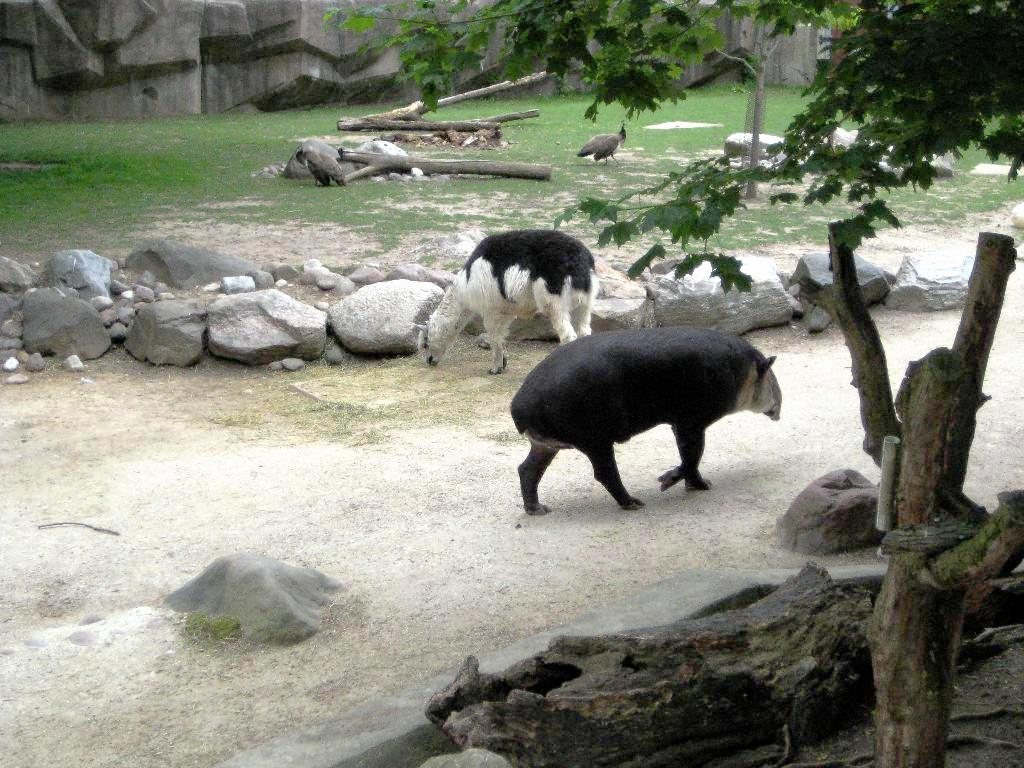Sheep: (419, 224, 604, 368)
